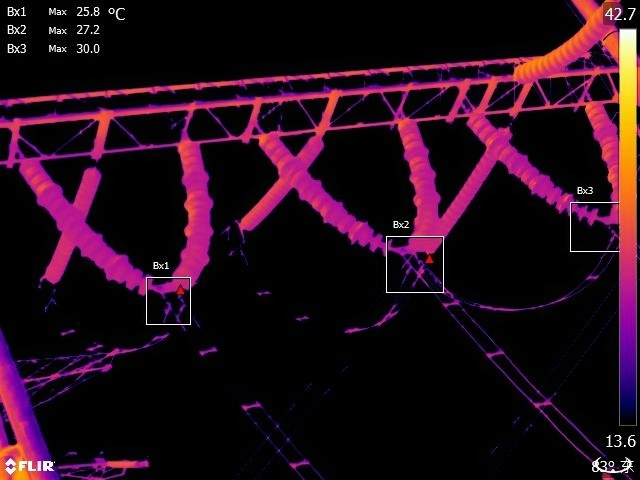insulator: (18, 158, 156, 293), (466, 109, 595, 226), (256, 132, 374, 249), (431, 123, 520, 249), (511, 1, 621, 85), (237, 135, 330, 232), (40, 160, 102, 279), (170, 131, 215, 292), (391, 111, 439, 250), (583, 92, 617, 229)
